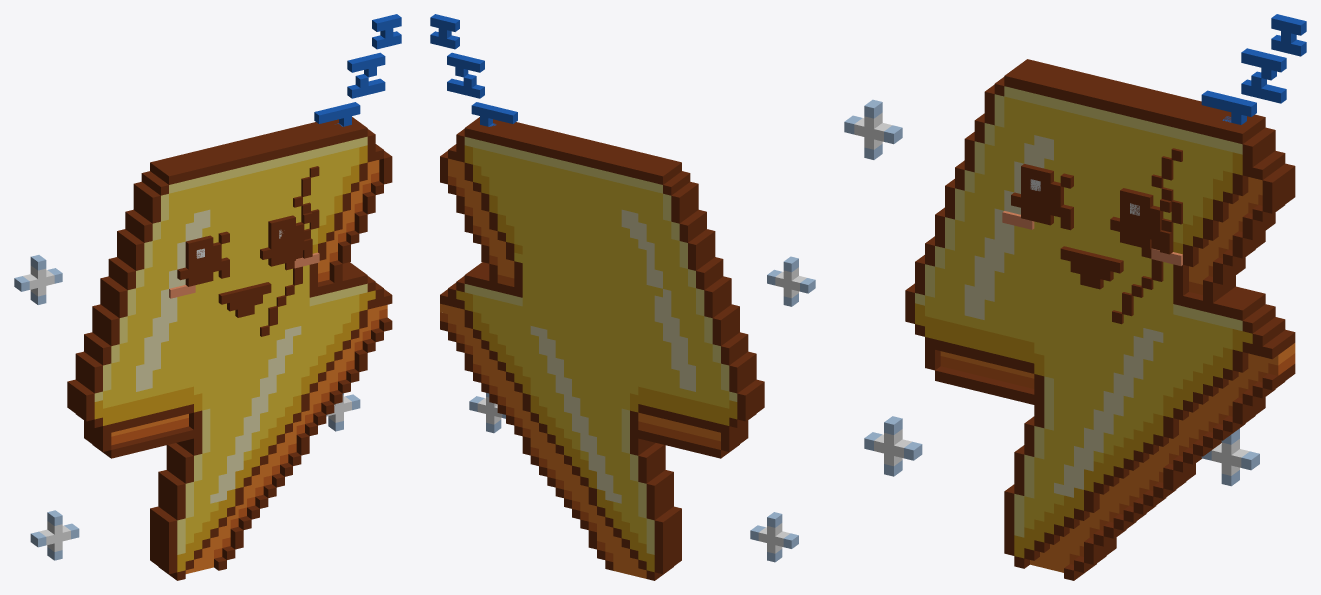
Rendered from mascot.glb.
3 views of the same model, side by side, from view 1: azimuth 30°, elevation 25°; view 2: azimuth 150°, elevation 25°; view 3: azimuth 330°, elevation 25° (orthographic). The views are drawn at different scales.
Parts seen in each view (by area): view 1: body, side, zzz, crack, eyeL, sparkle1, sparkle3, eyeR, mouthOpen, eyeXR, sparkle2, eyeHappyR (+2 smaller); view 2: body, side, zzz, sparkle1, sparkle3, sparkle2; view 3: body, side, zzz, crack, eyeL, sparkle3, sparkle1, eyeR, sparkle2, mouthOpen, eyeXR, eyeXL (+2 smaller).
Part boxes in pixels (x1=…): body: x1=67, y1=117, x2=392, y2=580; side: x1=111, y1=160, x2=387, y2=573; zzz: x1=314, y1=14, x2=401, y2=126; crack: x1=260, y1=166, x2=319, y2=336; eyeL: x1=185, y1=235, x2=221, y2=284; sparkle1: x1=14, y1=255, x2=62, y2=304; sparkle3: x1=30, y1=510, x2=79, y2=560; eyeR: x1=268, y1=215, x2=304, y2=264; mouthOpen: x1=218, y1=282, x2=271, y2=317; eyeXR: x1=268, y1=212, x2=312, y2=266; sparkle2: x1=326, y1=393, x2=360, y2=431; eyeHappyR: x1=260, y1=226, x2=312, y2=259; body: x1=440, y1=117, x2=764, y2=580; side: x1=440, y1=158, x2=720, y2=578; zzz: x1=430, y1=14, x2=517, y2=126; sparkle1: x1=767, y1=256, x2=815, y2=306; sparkle3: x1=750, y1=512, x2=798, y2=562; sparkle2: x1=469, y1=393, x2=505, y2=433; body: x1=905, y1=59, x2=1295, y2=580; side: x1=940, y1=177, x2=1295, y2=572; zzz: x1=1201, y1=14, x2=1306, y2=124; crack: x1=1112, y1=148, x2=1182, y2=324; eyeL: x1=1021, y1=166, x2=1063, y2=225; sparkle3: x1=864, y1=416, x2=922, y2=476; sparkle1: x1=844, y1=99, x2=902, y2=159; eyeR: x1=1120, y1=190, x2=1163, y2=249; sparkle2: x1=1201, y1=428, x2=1259, y2=486; mouthOpen: x1=1060, y1=246, x2=1123, y2=289; eyeXR: x1=1120, y1=188, x2=1173, y2=254; eyeXL: x1=1021, y1=164, x2=1073, y2=230.
Size of the model in its own units: 2.88 by 3.62 by 0.2875.
